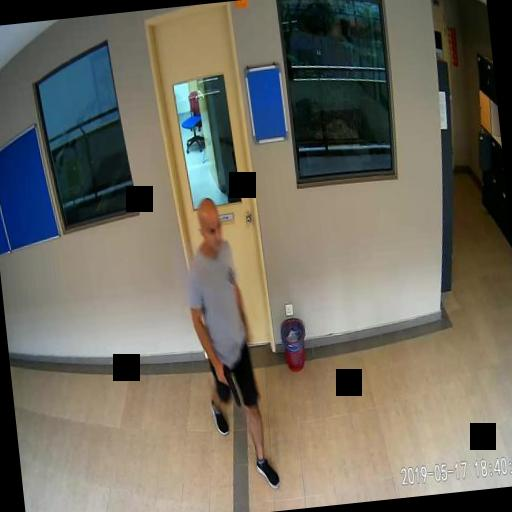Handgun: (212, 360, 244, 410)
